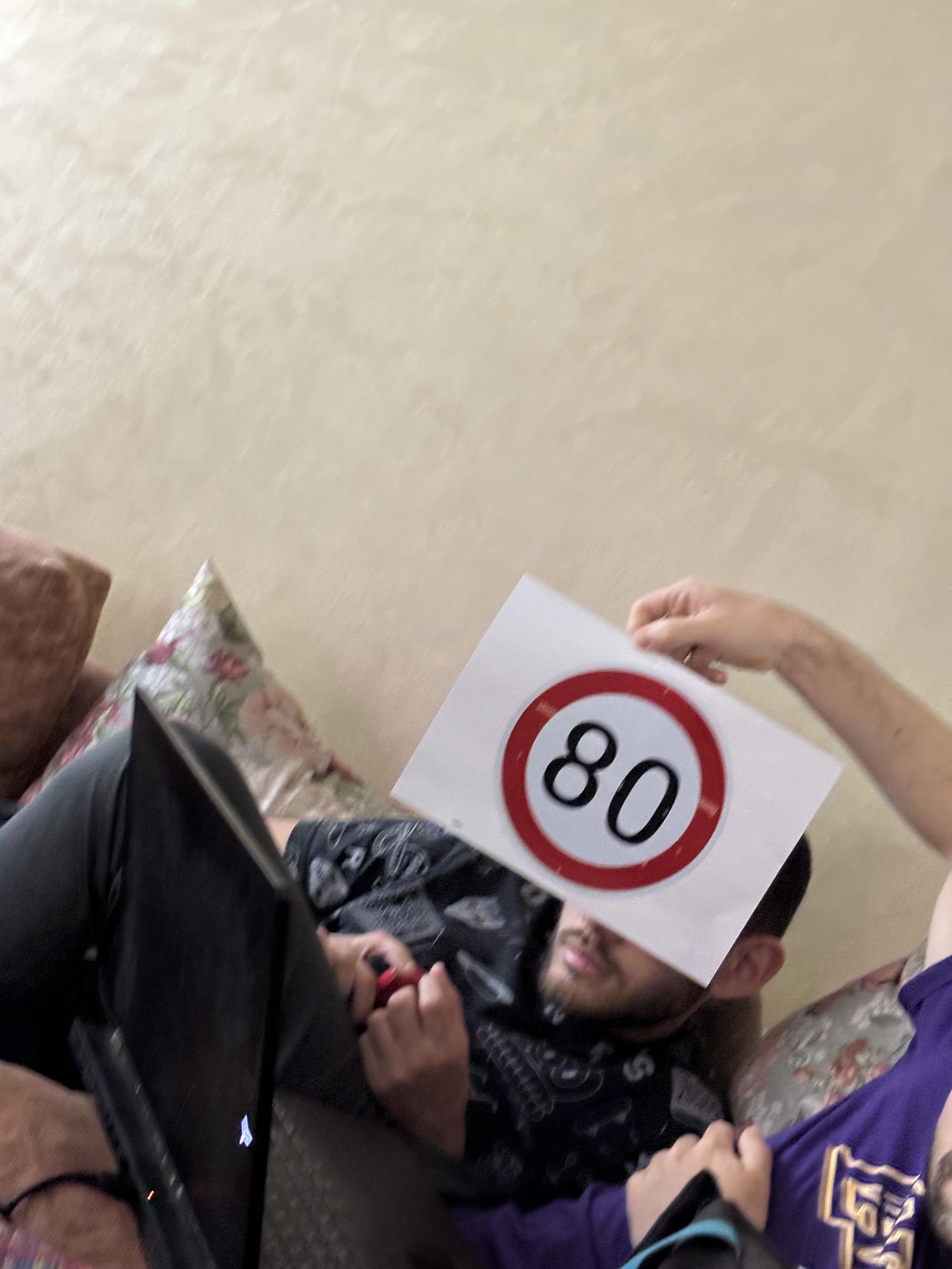80-Speed: (485, 646, 727, 911)
